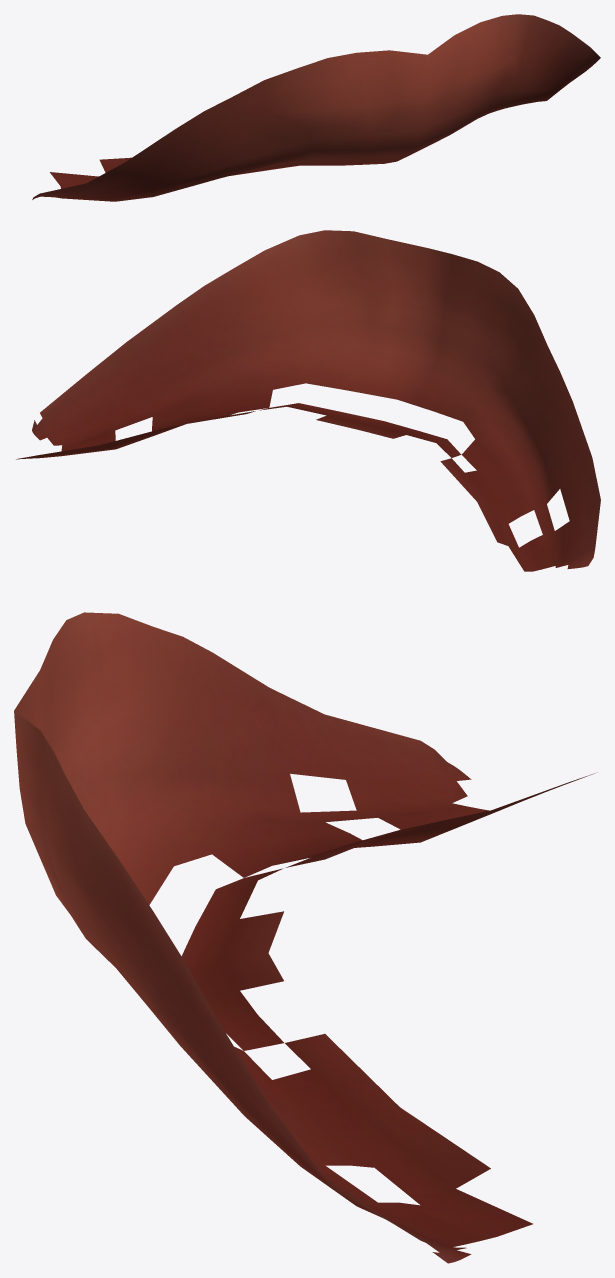
The model's file is UpperLipParts.fbx.
3 renders of one model, top to bottom at view 1: azimuth 30°, elevation 25°; view 2: azimuth 150°, elevation 25°; view 3: azimuth 270°, elevation 25°, orthographic. The views are drawn at different scales.
Parts seen in each view (by area): view 1: UpperLips.220, UpperLips.213, UpperLips.223, UpperLips.117, UpperLips.097, UpperLips.021, UpperLips.055, UpperLips.078, UpperLips.216, UpperLips.225, UpperLips.214, UpperLips.248 (+62 smaller); view 2: UpperLips.232, UpperLips.242, UpperLips.144, UpperLips.049, UpperLips.044, UpperLips.079, UpperLips.046, UpperLips.236, UpperLips.233, UpperLips.052, UpperLips.113, UpperLips.213 (+76 smaller); view 3: UpperLips.213, UpperLips.061, UpperLips.161, UpperLips.248, UpperLips.159, UpperLips.011, UpperLips.097, UpperLips.210, UpperLips.110, UpperLips.179, UpperLips.216, UpperLips.010 (+60 smaller).
Boxes of the visible parts, x1=… form: UpperLips.220: x1=300, y1=81, x2=346, y2=111; UpperLips.213: x1=134, y1=149, x2=185, y2=185; UpperLips.223: x1=390, y1=66, x2=426, y2=96; UpperLips.117: x1=363, y1=66, x2=395, y2=102; UpperLips.097: x1=238, y1=113, x2=275, y2=147; UpperLips.021: x1=299, y1=58, x2=340, y2=87; UpperLips.055: x1=266, y1=87, x2=303, y2=112; UpperLips.078: x1=303, y1=107, x2=352, y2=127; UpperLips.216: x1=209, y1=123, x2=243, y2=158; UpperLips.225: x1=389, y1=50, x2=427, y2=75; UpperLips.214: x1=180, y1=136, x2=214, y2=168; UpperLips.248: x1=269, y1=112, x2=308, y2=136; UpperLips.232: x1=134, y1=332, x2=185, y2=387; UpperLips.242: x1=300, y1=257, x2=345, y2=284; UpperLips.144: x1=306, y1=361, x2=352, y2=390; UpperLips.049: x1=96, y1=366, x2=145, y2=407; UpperLips.044: x1=387, y1=254, x2=426, y2=291; UpperLips.079: x1=303, y1=283, x2=350, y2=306; UpperLips.046: x1=270, y1=283, x2=308, y2=318; UpperLips.236: x1=210, y1=300, x2=243, y2=345; UpperLips.233: x1=180, y1=316, x2=214, y2=360; UpperLips.052: x1=46, y1=392, x2=105, y2=434; UpperLips.113: x1=239, y1=289, x2=271, y2=329; UpperLips.213: x1=550, y1=425, x2=577, y2=488; UpperLips.213: x1=223, y1=703, x2=289, y2=773; UpperLips.061: x1=335, y1=749, x2=441, y2=782; UpperLips.161: x1=421, y1=1189, x2=532, y2=1236; UpperLips.248: x1=86, y1=688, x2=137, y2=747; UpperLips.159: x1=375, y1=1153, x2=455, y2=1205; UpperLips.011: x1=410, y1=1138, x2=490, y2=1188; UpperLips.097: x1=128, y1=688, x2=169, y2=748; UpperLips.210: x1=279, y1=731, x2=345, y2=779; UpperLips.110: x1=329, y1=1118, x2=409, y2=1167; UpperLips.179: x1=119, y1=837, x2=173, y2=903; UpperLips.216: x1=161, y1=690, x2=201, y2=752; UpperLips.010: x1=364, y1=1107, x2=445, y2=1152.
Bounding box in the file's own units: 0.0363 × 0.0111 × 0.0179.
